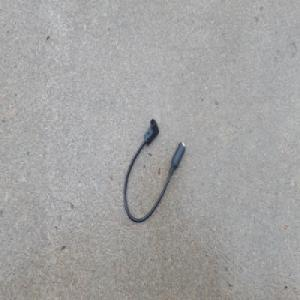Wire: (123, 116, 186, 224)
